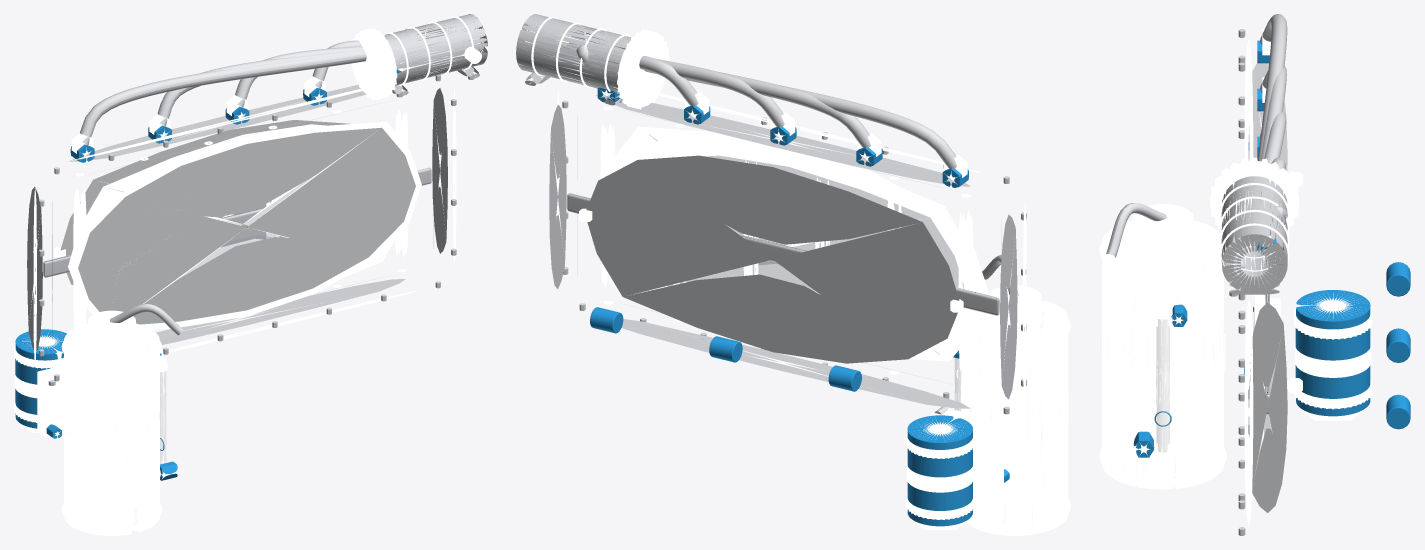
Rendered from dry-sump.glb.
3 views of the same model, side by side, from view 1: azimuth 30°, elevation 25°; view 2: azimuth 150°, elevation 25°; view 3: azimuth 270°, elevation 25° (orthographic). The views are drawn at different scales.
Parts seen in each view (by area): view 1: CNC_Low_Profile_Scavenge_Pan_Trough, Cyclone_DeAerator_Reservoir_Vessel, AN12_Tube_Locknut_1, AN12_Braided_Scavenge_Line_1, AN12_Scavenge_Port_Fitting_1, Internal_Stainless_Screen_Baffle_Tray, GEO_DrySump_CoolingFins; view 2: CNC_Low_Profile_Scavenge_Pan_Trough, Cyclone_DeAerator_Reservoir_Vessel, AN12_Tube_Locknut_1, AN12_Braided_Scavenge_Line_1, AN12_Scavenge_Port_Fitting_1, Internal_Stainless_Screen_Baffle_Tray, GEO_DrySump_ANFittings, GEO_DrySump_CoolingFins; view 3: Cyclone_DeAerator_Reservoir_Vessel, CNC_Low_Profile_Scavenge_Pan_Trough, AN12_Tube_Locknut_1, AN12_Scavenge_Port_Fitting_1, AN12_Braided_Scavenge_Line_1, GEO_DrySump_ANFittings, Oil_Level_Quartz_Sight_Glass.
Part boxes in pixels (bbox=[...]): CNC_Low_Profile_Scavenge_Pan_Trough: bbox=[27, 14, 487, 351]; Cyclone_DeAerator_Reservoir_Vessel: bbox=[33, 86, 456, 535]; AN12_Tube_Locknut_1: bbox=[14, 16, 481, 531]; AN12_Braided_Scavenge_Line_1: bbox=[39, 28, 474, 385]; AN12_Scavenge_Port_Fitting_1: bbox=[15, 69, 401, 480]; Internal_Stainless_Screen_Baffle_Tray: bbox=[52, 105, 372, 332]; GEO_DrySump_CoolingFins: bbox=[43, 167, 431, 277]; CNC_Low_Profile_Scavenge_Pan_Trough: bbox=[516, 14, 1017, 408]; Cyclone_DeAerator_Reservoir_Vessel: bbox=[556, 90, 1068, 535]; AN12_Tube_Locknut_1: bbox=[531, 16, 1070, 530]; AN12_Braided_Scavenge_Line_1: bbox=[562, 45, 1026, 414]; AN12_Scavenge_Port_Fitting_1: bbox=[597, 86, 1009, 526]; Internal_Stainless_Screen_Baffle_Tray: bbox=[636, 114, 963, 380]; GEO_DrySump_ANFittings: bbox=[590, 307, 861, 391]; GEO_DrySump_CoolingFins: bbox=[567, 193, 999, 315]; Cyclone_DeAerator_Reservoir_Vessel: bbox=[1102, 39, 1264, 525]; CNC_Low_Profile_Scavenge_Pan_Trough: bbox=[1221, 63, 1287, 513]; AN12_Tube_Locknut_1: bbox=[1099, 29, 1372, 483]; AN12_Scavenge_Port_Fitting_1: bbox=[1133, 40, 1370, 457]; AN12_Braided_Scavenge_Line_1: bbox=[1106, 14, 1287, 535]; GEO_DrySump_ANFittings: bbox=[1386, 262, 1410, 429]; Oil_Level_Quartz_Sight_Glass: bbox=[1156, 319, 1169, 452].
Size of the model in its own units: 0.7432 by 0.616 by 0.3572.
